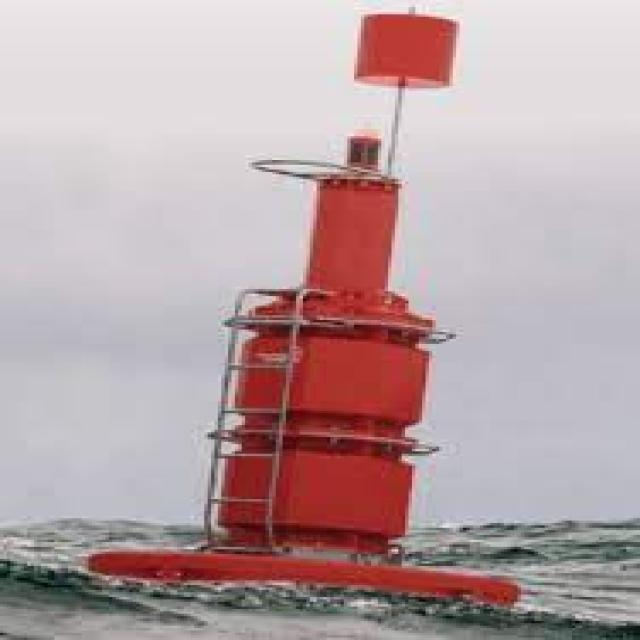2.1 lateral mark -P-: (74, 3, 568, 619)
